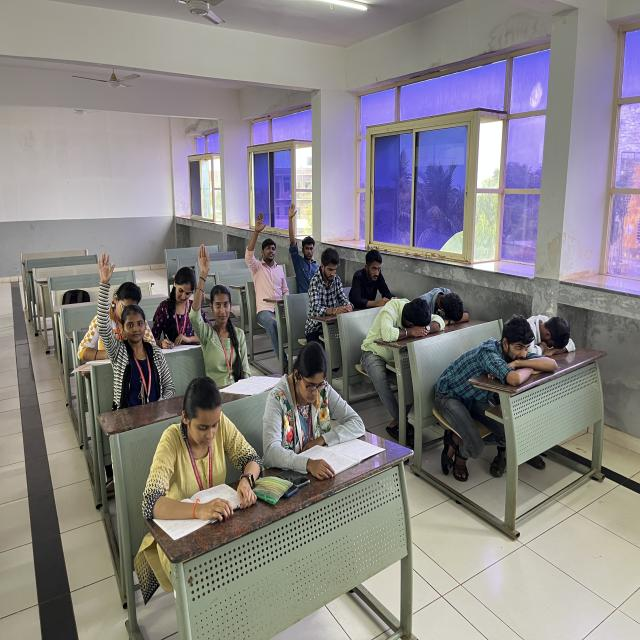Hand Rising: (80, 257, 174, 499), (186, 255, 249, 390), (244, 225, 291, 370), (285, 202, 325, 278)
Reading: (138, 374, 262, 603), (262, 343, 347, 480)
Sleeping: (460, 314, 541, 439), (369, 296, 443, 362), (418, 286, 479, 330), (520, 314, 576, 358)
Writing: (151, 267, 209, 346)
